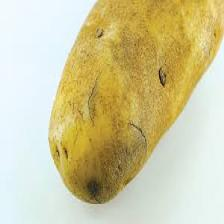Damaged potato: (44, 0, 224, 209)
